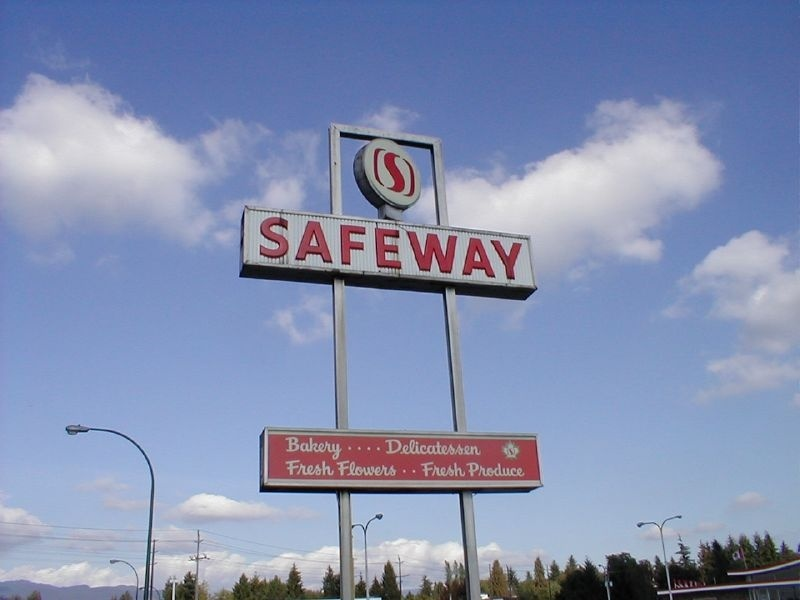text: (273, 216, 288, 282), (289, 216, 304, 282), (305, 216, 320, 282), (321, 216, 336, 282), (337, 216, 352, 282), (353, 216, 368, 282), (369, 216, 384, 282), (385, 216, 400, 282), (401, 216, 416, 282), (417, 216, 432, 282), (433, 216, 448, 282), (449, 216, 464, 282), (465, 216, 480, 282), (481, 216, 496, 282), (497, 216, 512, 282), (259, 216, 272, 282), (385, 150, 400, 196), (513, 216, 523, 282), (401, 150, 410, 196), (289, 437, 304, 462), (305, 437, 320, 462), (321, 437, 336, 462), (289, 459, 304, 478), (305, 459, 320, 478), (321, 459, 336, 478), (385, 439, 400, 457), (401, 439, 416, 457), (417, 439, 432, 457), (433, 439, 448, 457), (449, 439, 464, 457), (465, 439, 480, 457), (337, 460, 352, 478), (353, 460, 368, 478), (369, 460, 384, 478), (433, 461, 448, 478), (449, 461, 464, 478), (465, 462, 480, 478), (481, 462, 496, 478), (497, 462, 512, 478), (513, 462, 528, 478), (385, 460, 398, 478), (419, 461, 432, 478), (337, 437, 343, 462), (353, 446, 368, 453), (402, 468, 416, 475), (369, 446, 382, 453), (284, 459, 288, 478), (285, 437, 288, 462), (481, 439, 484, 457), (465, 461, 467, 478), (348, 446, 352, 453), (337, 459, 338, 478), (383, 439, 384, 457), (335, 460, 336, 478), (417, 468, 418, 475)
